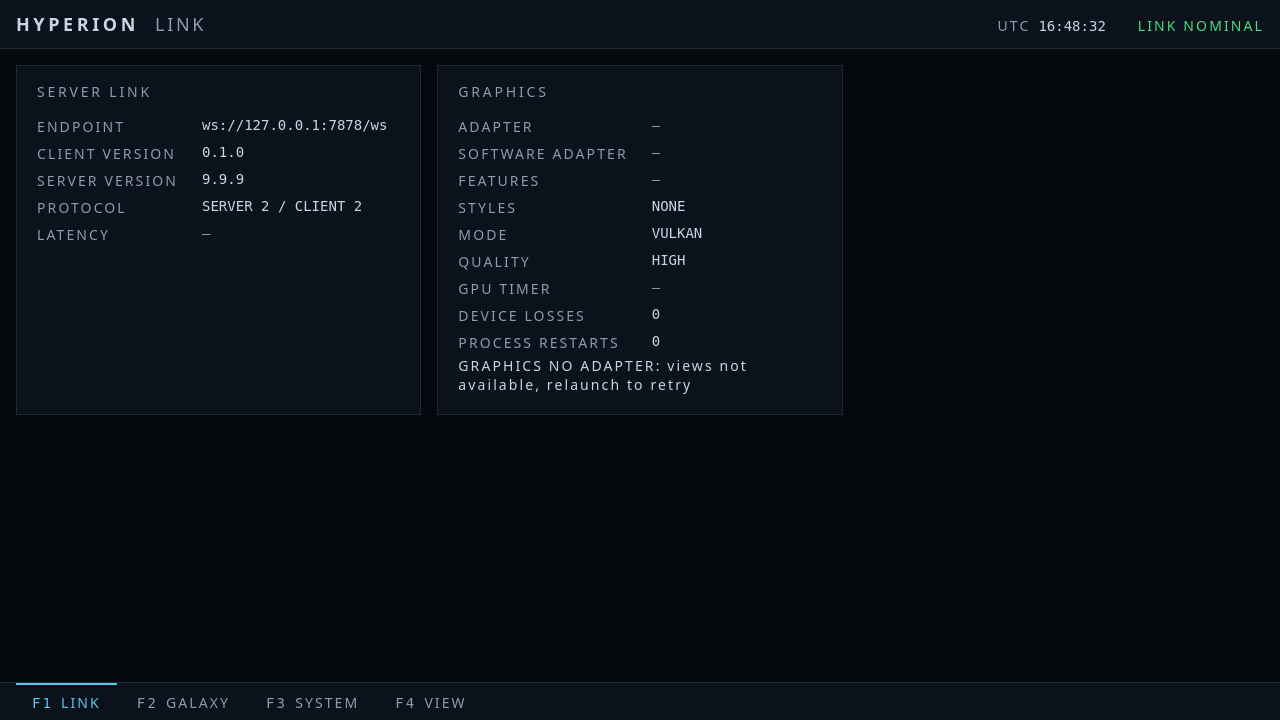
the GALAXY display, end to end › opens the universe the create answered with, reading its seed back in upper case
The width and height of the screenshot is (1280, 720).
Press F2
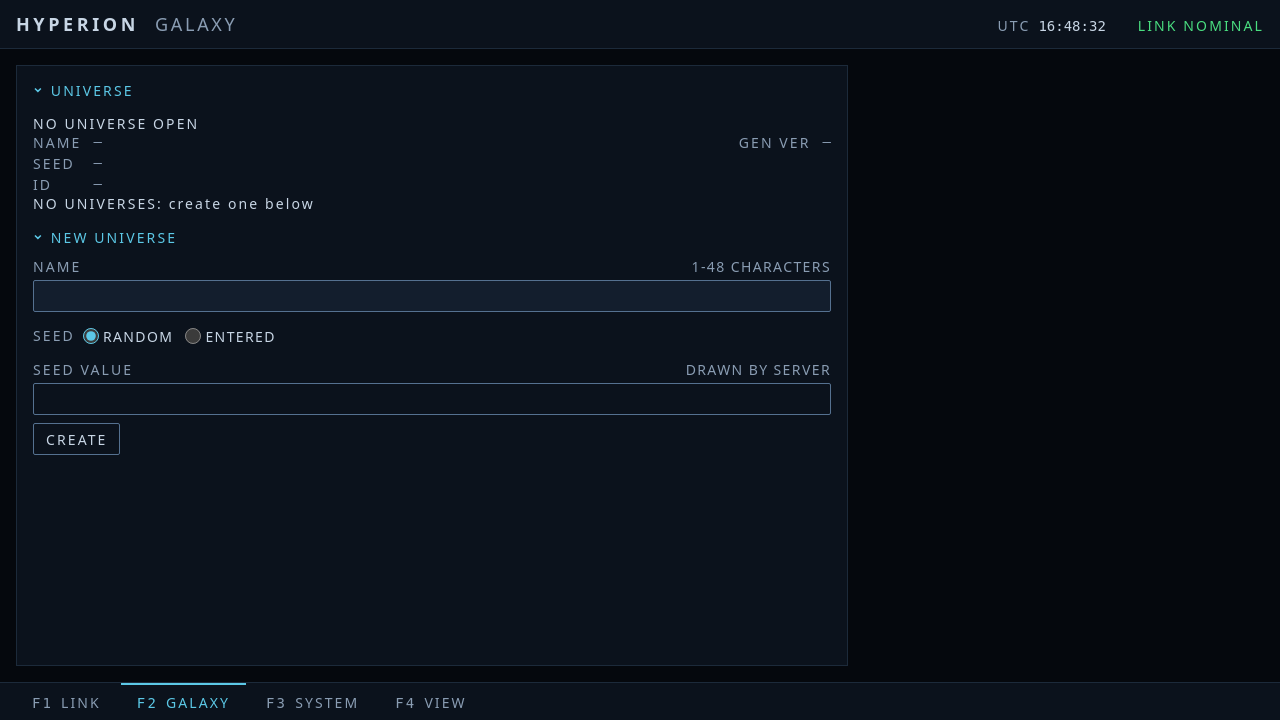
Type "SURVEY 1" into the field labelled "NAME" at {"x": 432, "y": 296}, box [33,280,831,312]
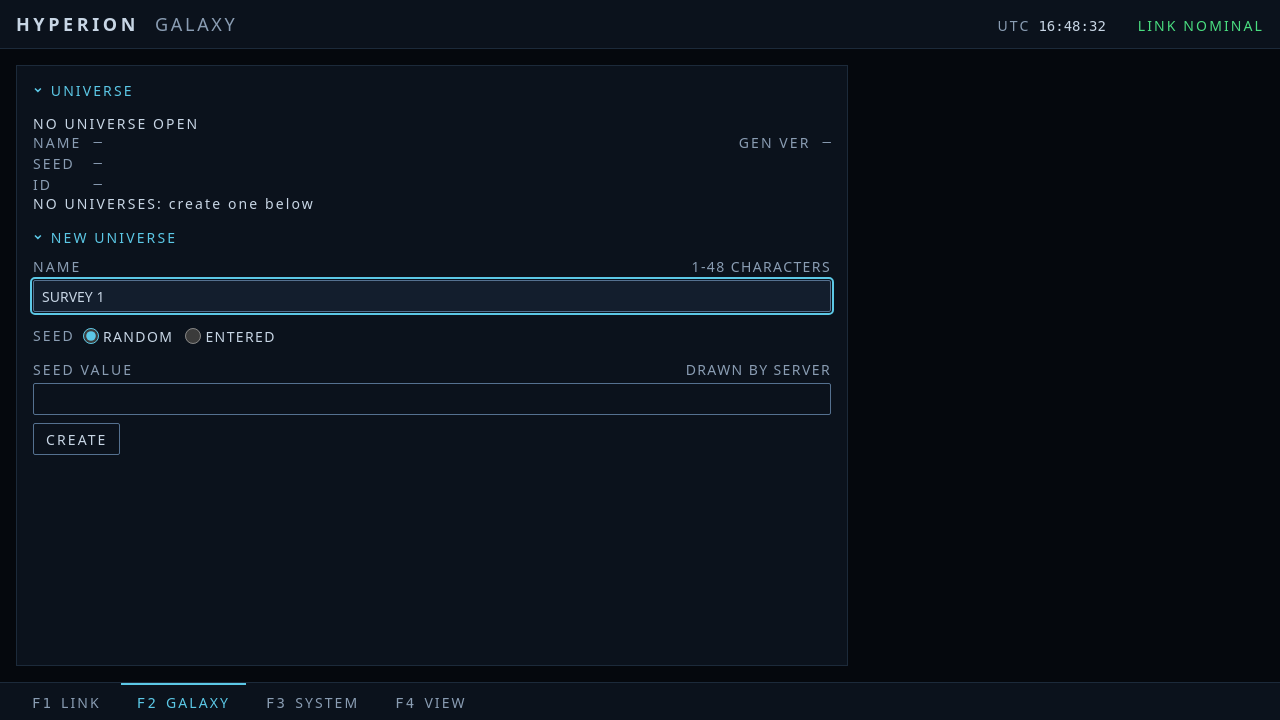
Click the radio button labelled "ENTERED" at {"x": 193, "y": 336}, box [185,328,201,344]
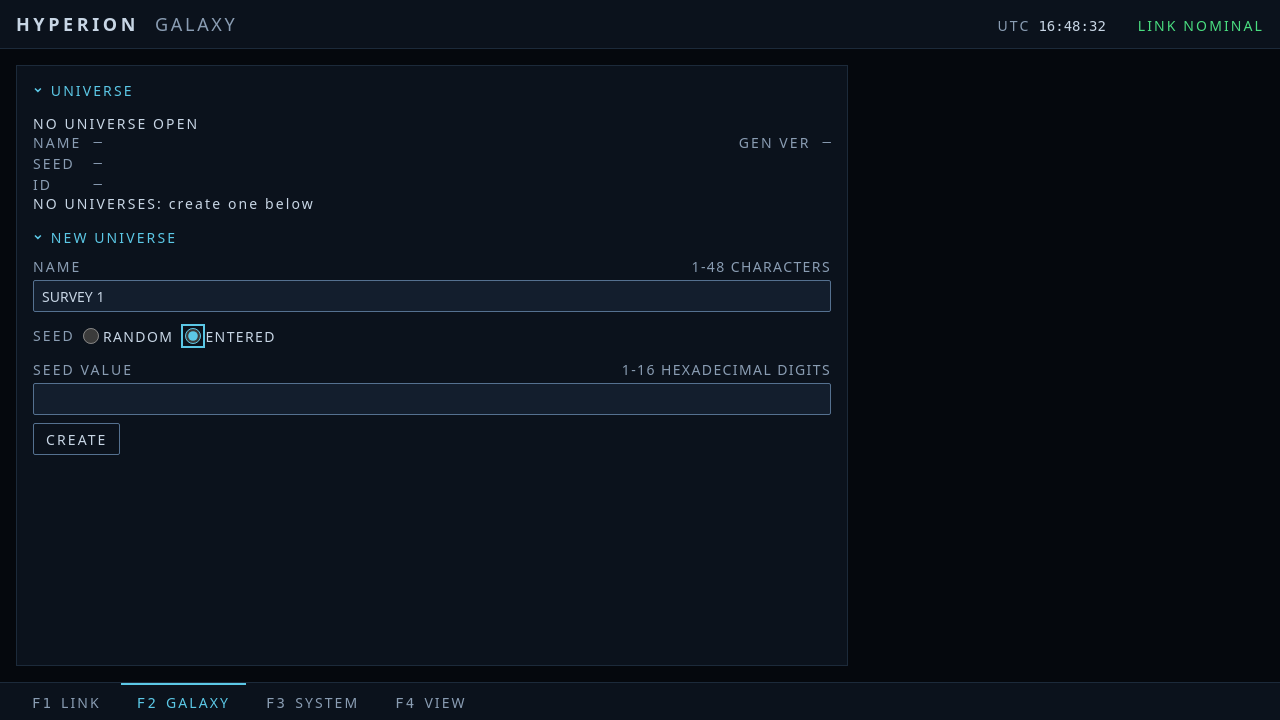
Type "4D2" into the field labelled "SEED VALUE" at {"x": 432, "y": 399}, box [33,383,831,415]
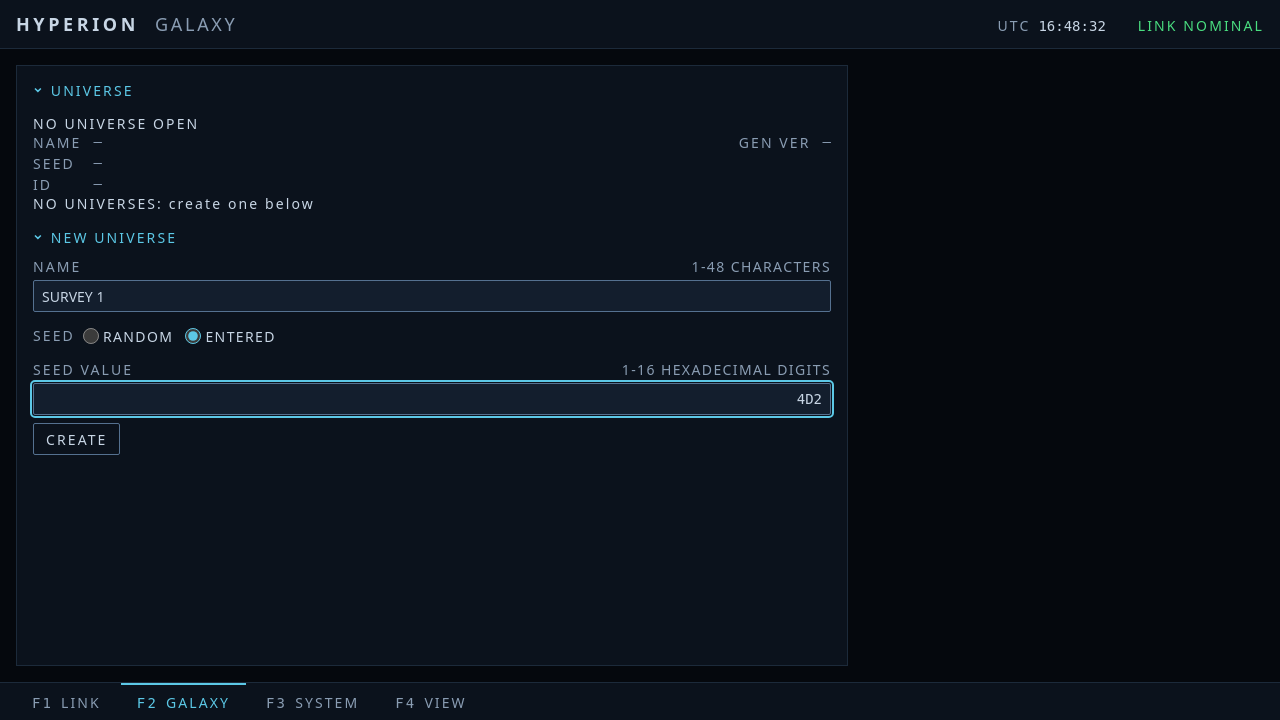
Click the button "CREATE" at {"x": 77, "y": 439}, box [33,423,120,455]
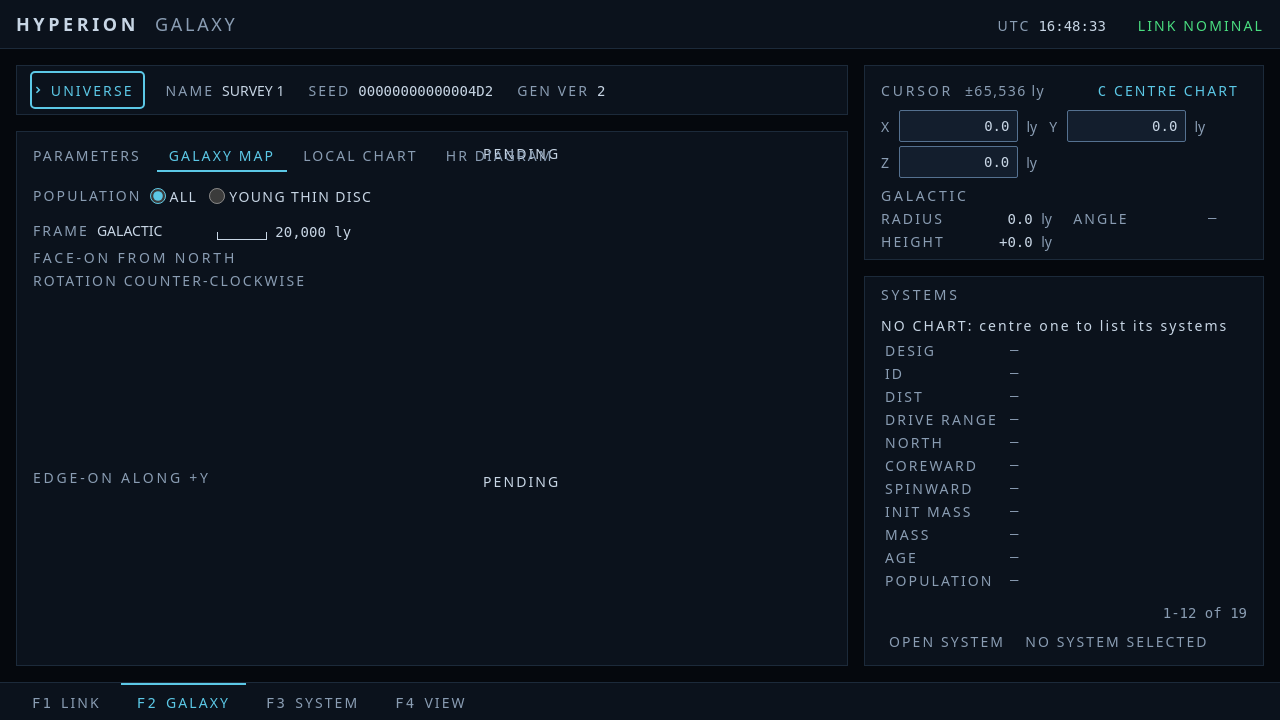
expect the text "SURVEY 1" is shown: met, box [222,80,284,100]
expect the text "00000000000004D2" is shown: met, box [358,82,493,98]
expect the element named "Galaxy pages" is shown: met, box [33,140,566,172]
